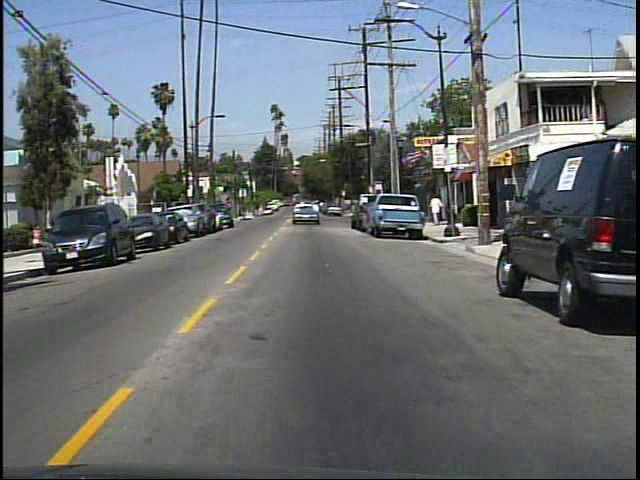person: (428, 190, 447, 228), (33, 223, 50, 252)
